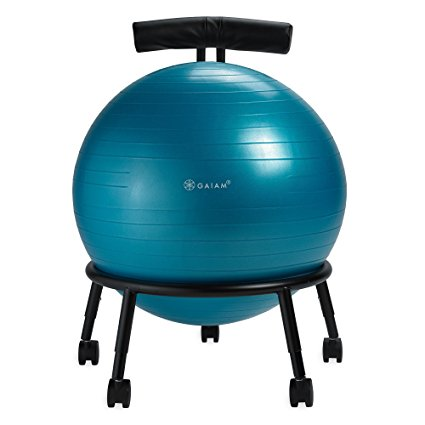blue ball: (71, 61, 349, 326)
